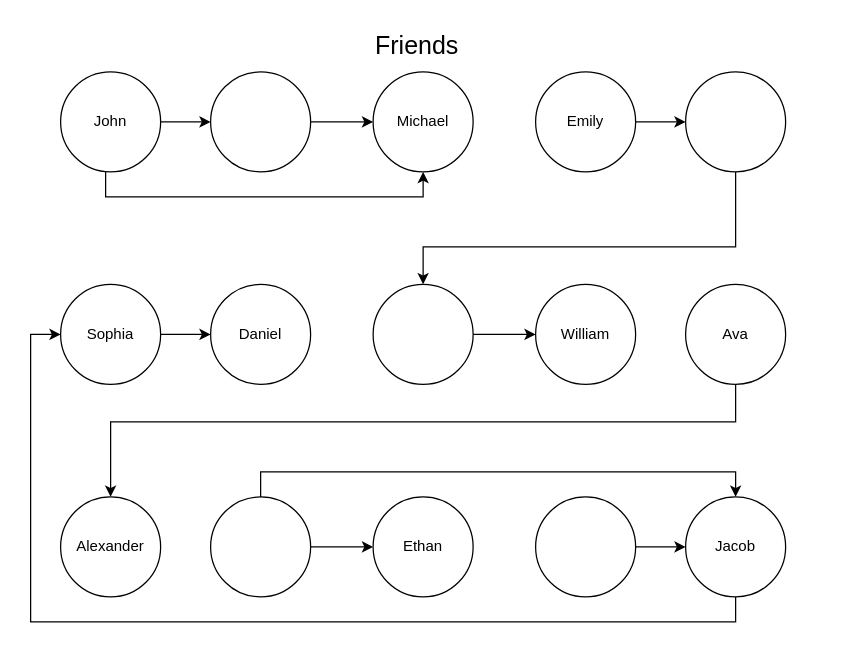
This 858x654 diagram has some shape labels left out. The shapes that lost their labels are listed below. From the top down, each one's centre as x and y in pixels, then its label:
At pixel 260 121: "Alice".
At pixel 735 121: "James".
At pixel 422 333: "Olivia".
At pixel 260 546: "Mia".
At pixel 585 546: "Isabella".
